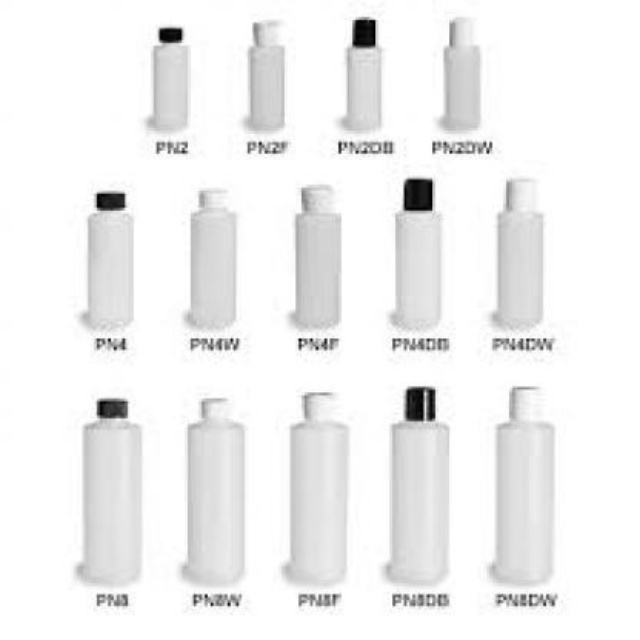trash: (389, 386, 448, 582), (494, 386, 552, 582), (289, 392, 346, 582), (83, 398, 140, 583), (186, 398, 243, 583), (497, 178, 542, 326), (395, 178, 438, 326), (295, 185, 340, 326), (88, 192, 132, 326), (191, 189, 234, 326), (345, 18, 380, 129), (443, 18, 478, 128), (249, 22, 283, 128), (152, 28, 186, 128)
